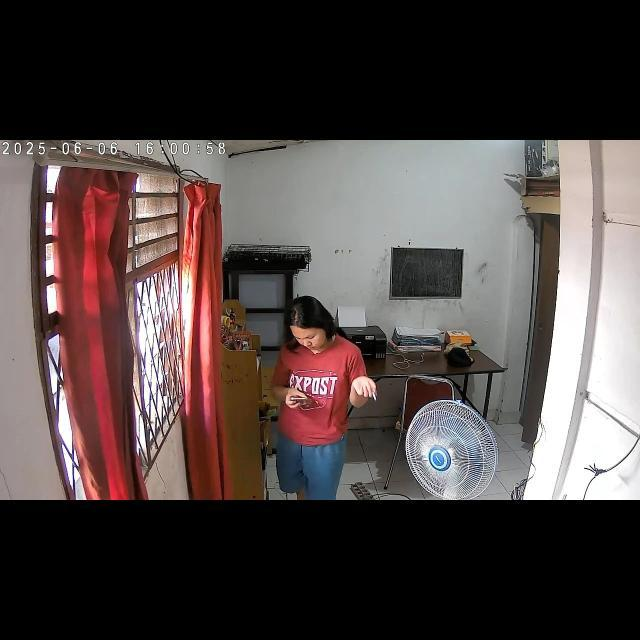rokok: (370, 391, 378, 403)
